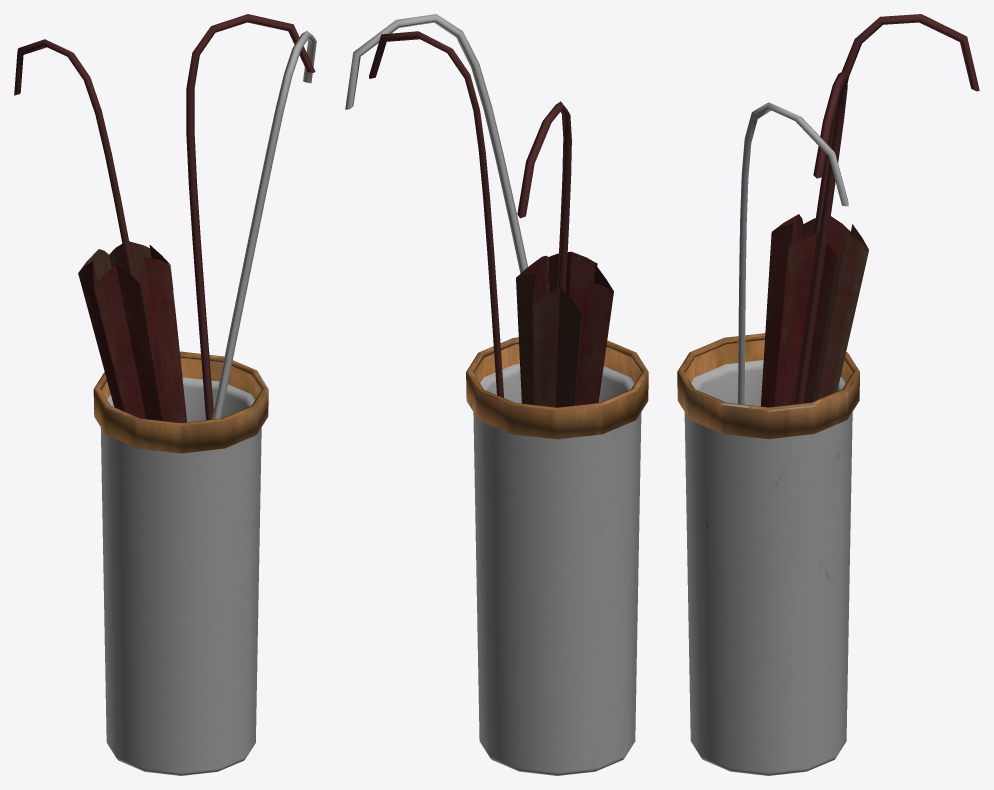
3 renders of one model, left to right at view 1: azimuth 30°, elevation 25°; view 2: azimuth 150°, elevation 25°; view 3: azimuth 270°, elevation 25°, orthographic. The views are drawn at different scales.
Visible parts, largest first — view 1: Cylinder; view 2: Cylinder; view 3: Cylinder.
Part boxes in pixels (box(x1,y1,x2,y2)): Cylinder: box(14, 14, 316, 775); Cylinder: box(345, 14, 648, 775); Cylinder: box(677, 14, 979, 775).
Size of the model in its own units: 158 by 427 by 164.
1 material, 1 textured.
